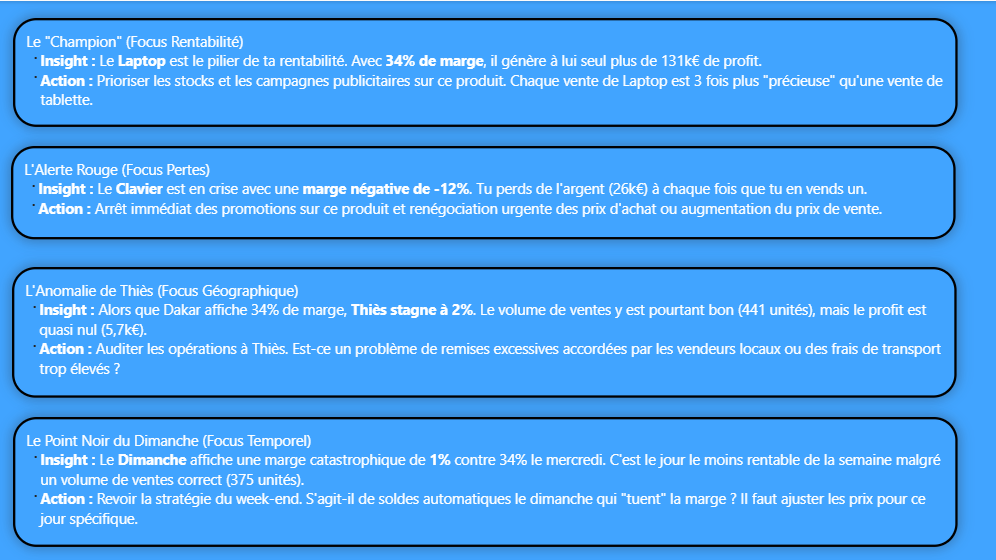

The page's visual inventory and layout, read from the dashboard file:
{"tool":"powerbi","page":{"name":"Business Insights","canvas":[1280,720],"ordinal":1},"visuals":[{"type":"textbox","box":[16.7,21.8,1214.5,140.1],"z":0},{"type":"textbox","box":[14.1,186.3,1214.5,119.5],"z":1000},{"type":"textbox","box":[15.4,341.8,1214.5,168.4],"z":2000},{"type":"textbox","box":[16.7,534.6,1214.5,167.1],"z":3000}]}

Visuals, with their boxes in screenshot pixels (x1, y1, x2, y2), scaled from the page's 1280x720 canvas onto the 996x560 screenshot:
textbox: (x1=13, y1=17, x2=958, y2=126)
textbox: (x1=11, y1=145, x2=956, y2=238)
textbox: (x1=12, y1=266, x2=957, y2=397)
textbox: (x1=13, y1=416, x2=958, y2=546)
